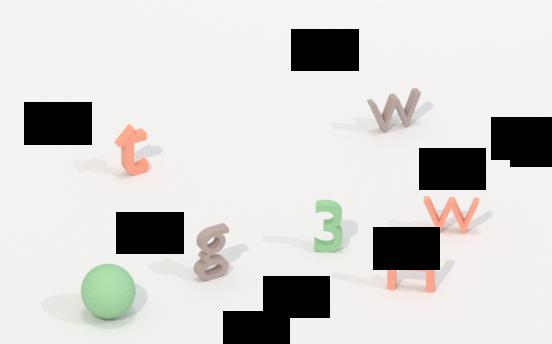3: (311, 198, 348, 256)
H-hoa: (381, 233, 441, 296)
cau: (78, 261, 142, 323)
g: (192, 219, 235, 284)
t: (111, 121, 155, 179)
w: (361, 87, 428, 135), (419, 193, 485, 236)
